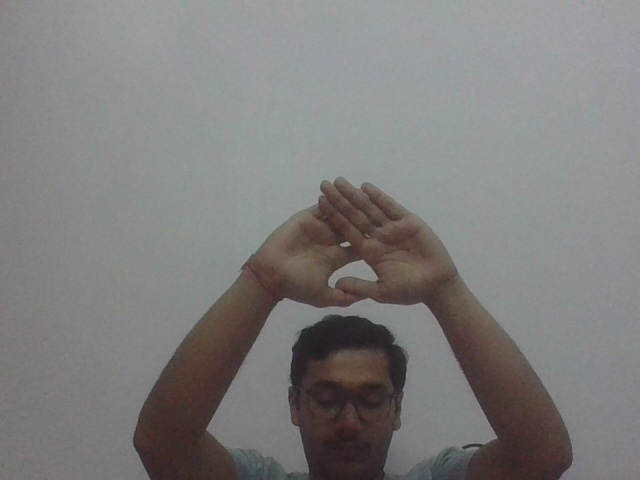W: (272, 178, 432, 310)
